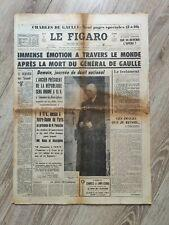paper: (14, 14, 151, 204)
